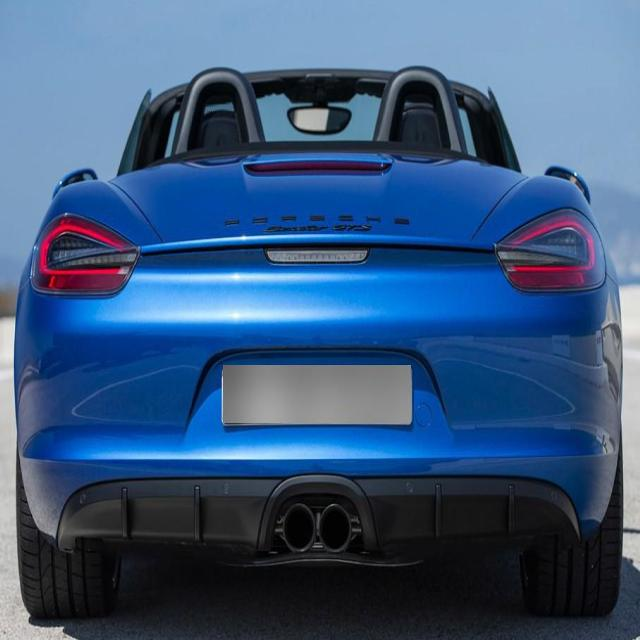back_left_side_light: (30, 208, 142, 304)
back_right_side_light: (495, 202, 605, 296)
front_glass: (143, 92, 501, 175)
rear_bumper: (13, 229, 625, 551)
